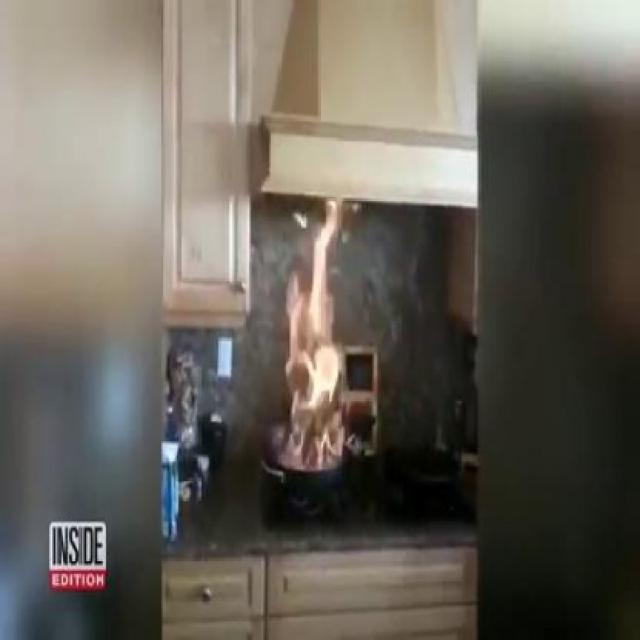fire: (261, 178, 354, 472)
